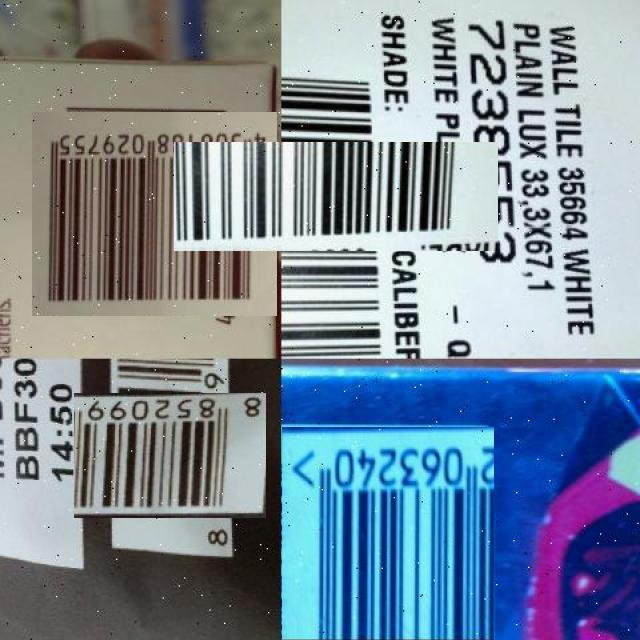Barcode: (42, 101, 266, 327), (228, 88, 444, 305), (281, 427, 494, 640), (90, 376, 249, 535)
